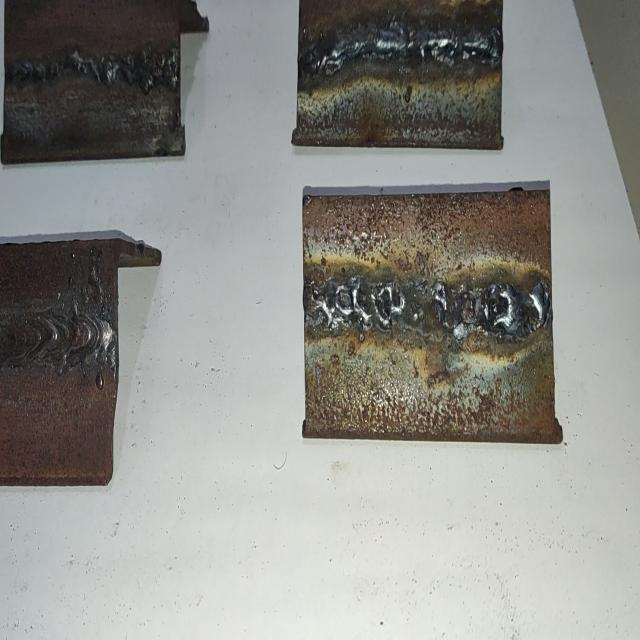Defect: (445, 268, 549, 344), (312, 273, 402, 333)
Good Weld: (302, 19, 500, 78), (8, 47, 178, 87), (1, 312, 112, 363)
